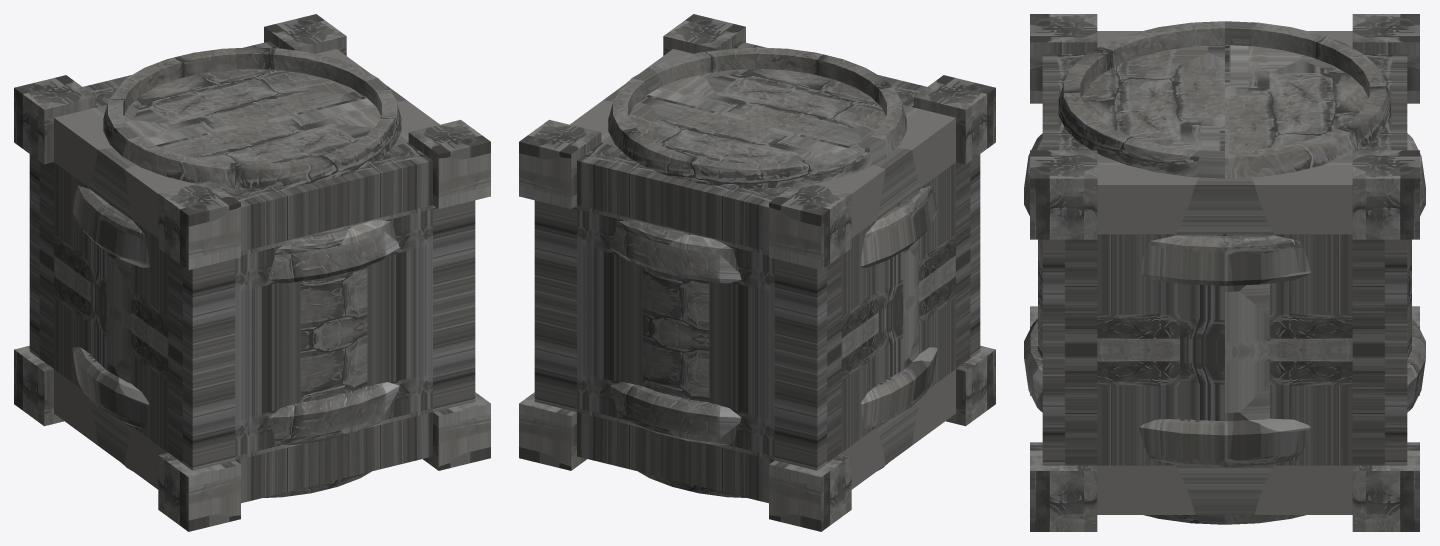
Rendered from Crate and barrell.fbx.
3 renders of one model, left to right at view 1: azimuth 30°, elevation 25°; view 2: azimuth 150°, elevation 25°; view 3: azimuth 270°, elevation 25°, orthographic. The views are drawn at different scales.
Parts seen in each view (by area): view 1: Crate_Low, Barrell_Low; view 2: Crate_Low, Barrell_Low; view 3: Crate_Low, Barrell_Low.
Boxes of the visible parts, x1,y1,x2,y2 form: Crate_Low: (14,14,490,531); Barrell_Low: (72,47,401,497); Crate_Low: (519,14,995,531); Barrell_Low: (608,47,937,497); Crate_Low: (1030,14,1419,531); Barrell_Low: (1024,21,1425,524).
Bounding box in the file's own units: 178 × 178 × 177.
